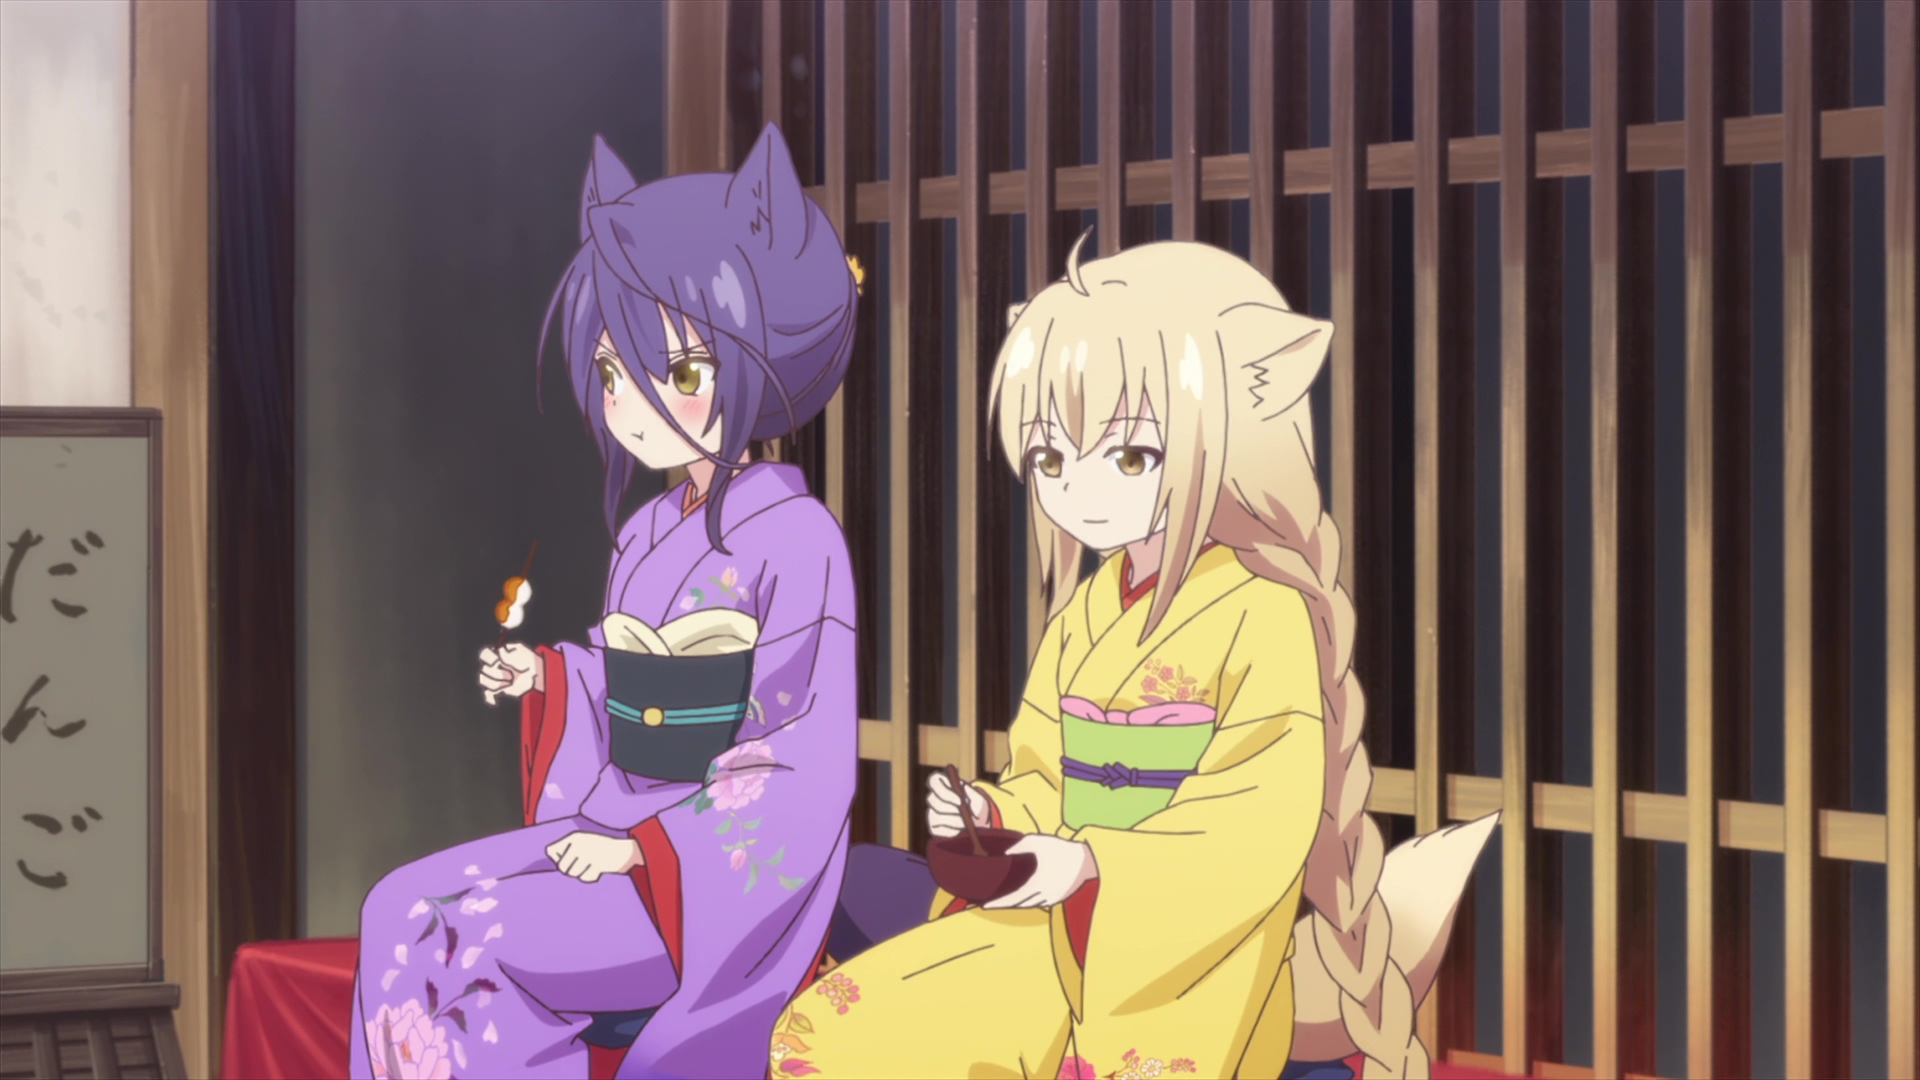柚: (767, 223, 1505, 1080)
皋: (351, 124, 932, 1080)
